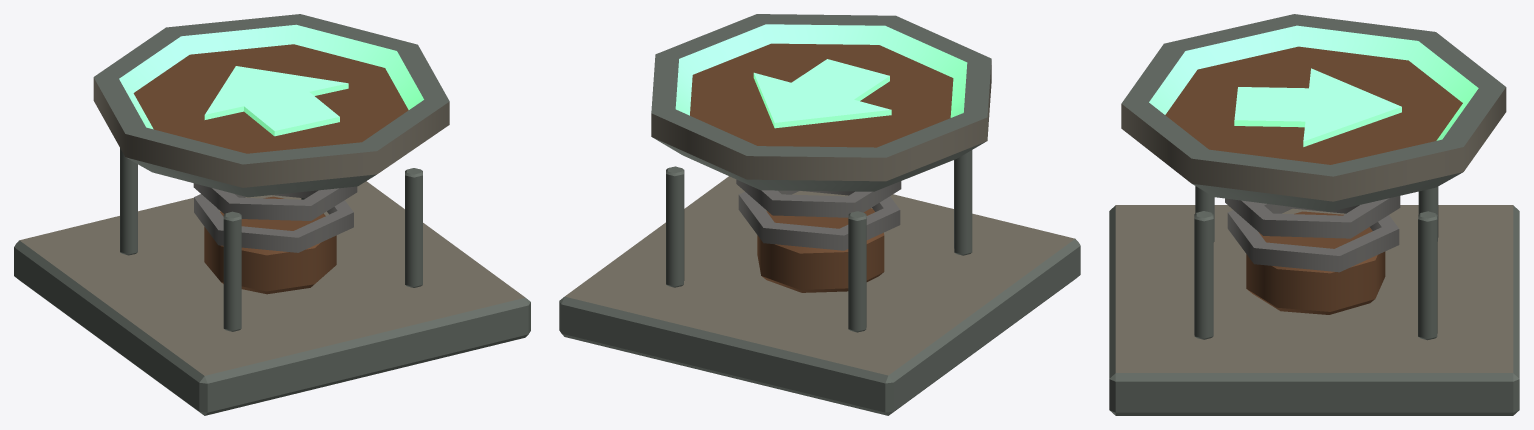
File: R4X_JumpPadDeployer_LOD1.fbx
The picture shows the model from 3 angles, left to right: view 1: azimuth 30°, elevation 25°; view 2: azimuth 150°, elevation 25°; view 3: azimuth 270°, elevation 25°; orthographic projection. The views are drawn at different scales.
Visible parts, largest first — view 1: R4X_JumpPadDeployer_LOD1; view 2: R4X_JumpPadDeployer_LOD1; view 3: R4X_JumpPadDeployer_LOD1.
Boxes of the visible parts, x1=… form: R4X_JumpPadDeployer_LOD1: x1=14, y1=14, x2=530, y2=415; R4X_JumpPadDeployer_LOD1: x1=559, y1=14, x2=1080, y2=415; R4X_JumpPadDeployer_LOD1: x1=1109, y1=14, x2=1519, y2=415.
Bounding box in the file's own units: 0.52 × 0.33 × 0.52.
